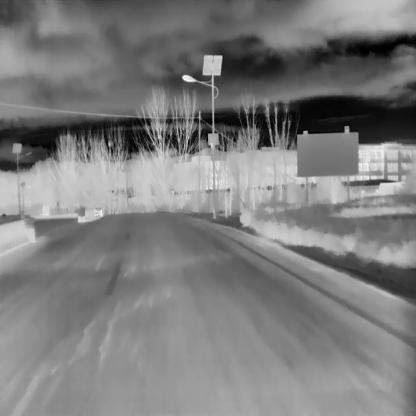car: (92, 206, 103, 216)
